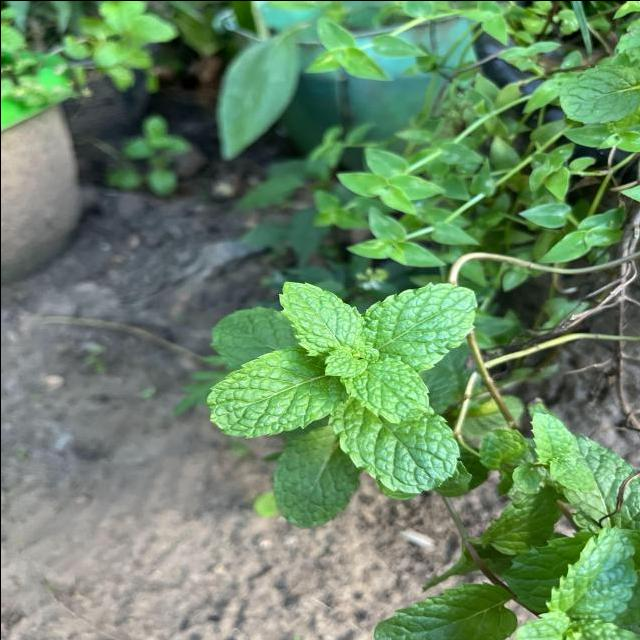Mentha spicata: (204, 344, 348, 440), (328, 412, 460, 496), (362, 279, 478, 372), (276, 279, 364, 358), (336, 356, 434, 424)
